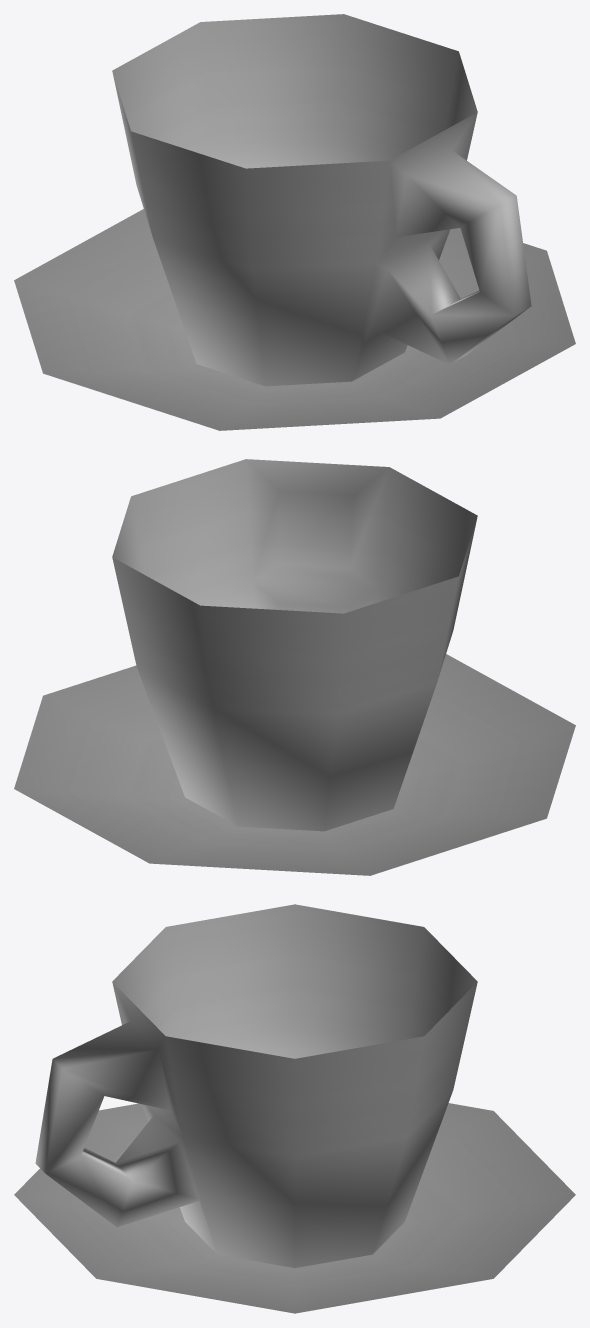
File: TeaCup.fbx
3 views of the same model, one above another, from view 1: azimuth 30°, elevation 25°; view 2: azimuth 150°, elevation 25°; view 3: azimuth 270°, elevation 25° (orthographic). The views are drawn at different scales.
Visible parts, largest first — view 1: Mug, TeaPlate; view 2: Mug, TeaPlate; view 3: Mug, TeaPlate.
Boxes of the visible parts, <box> form: Mug: <box>112,14,531,386</box>; TeaPlate: <box>14,209,575,430</box>; Mug: <box>112,459,477,831</box>; TeaPlate: <box>14,654,575,875</box>; Mug: <box>35,904,477,1267</box>; TeaPlate: <box>14,1103,575,1313</box>.
Size of the model in its own units: 35.8 by 16.97 by 35.8.
